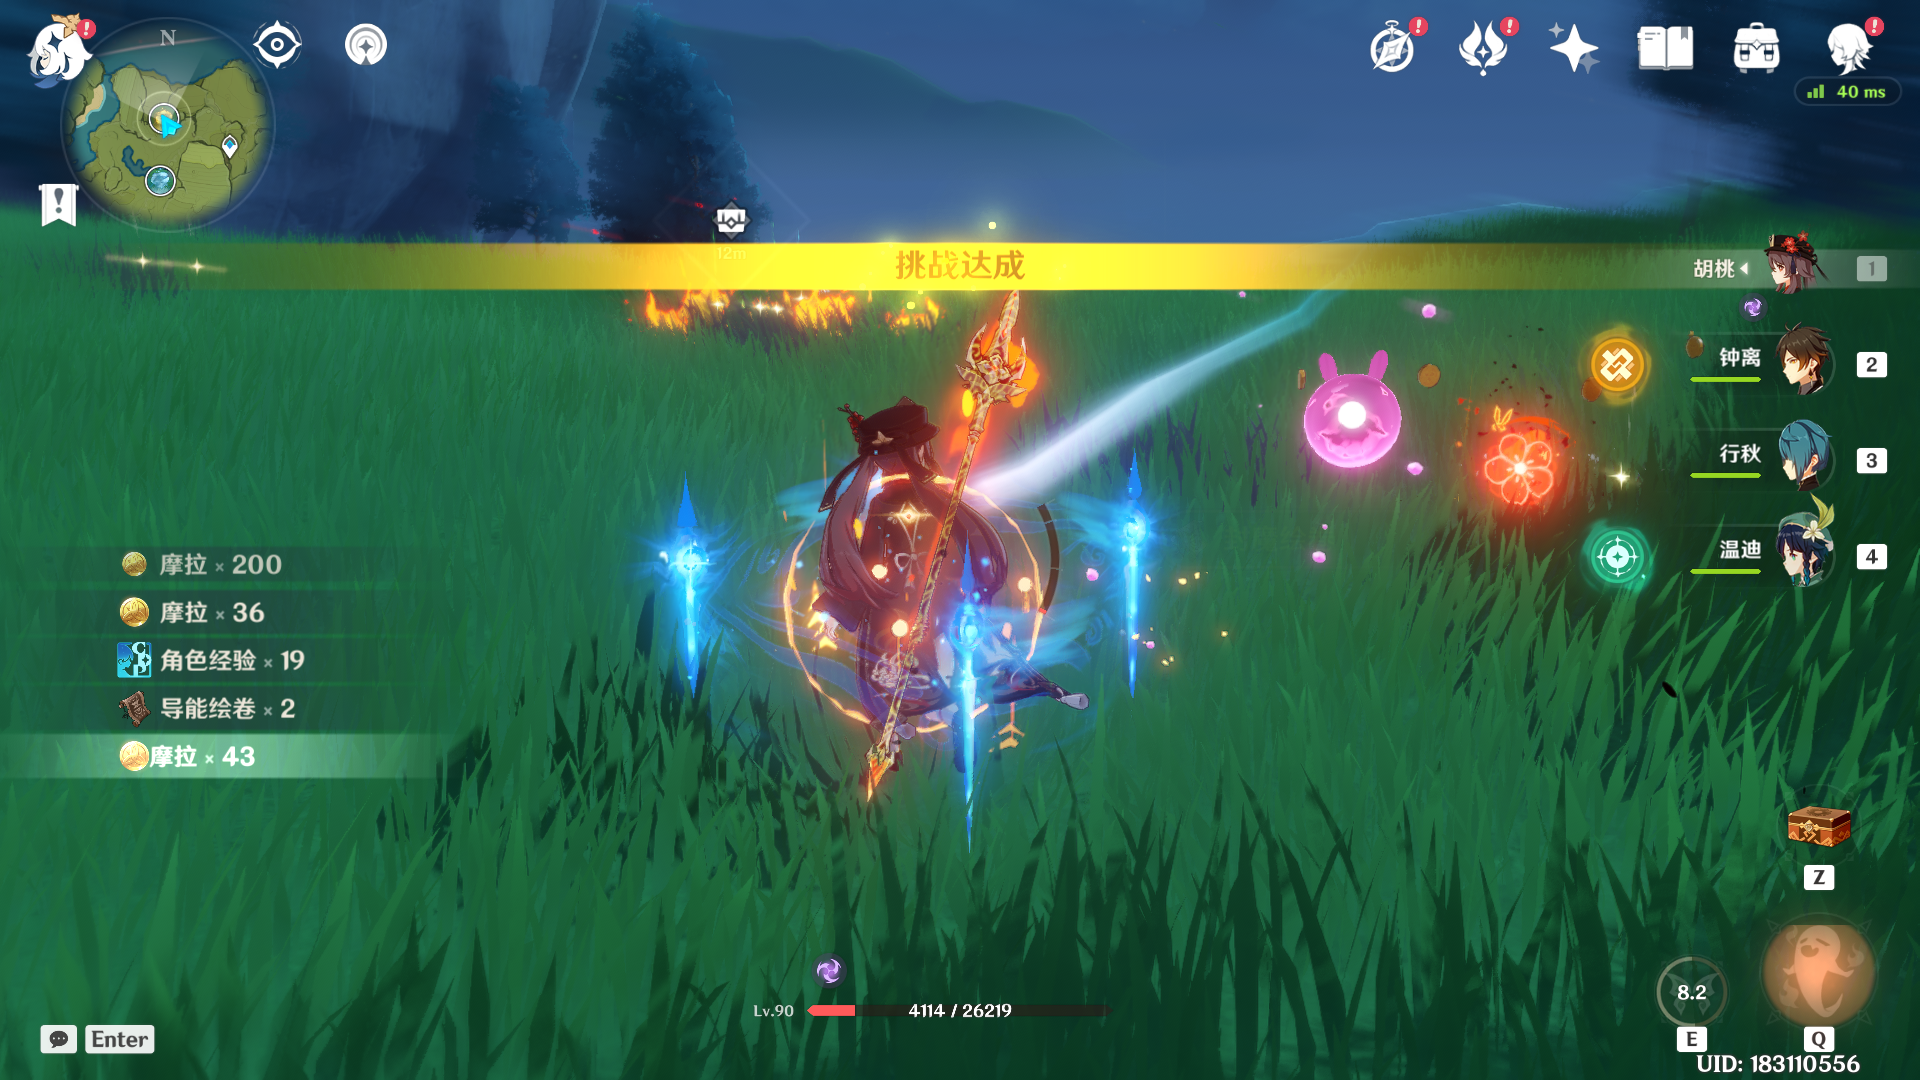character: (740, 371, 1124, 810)
